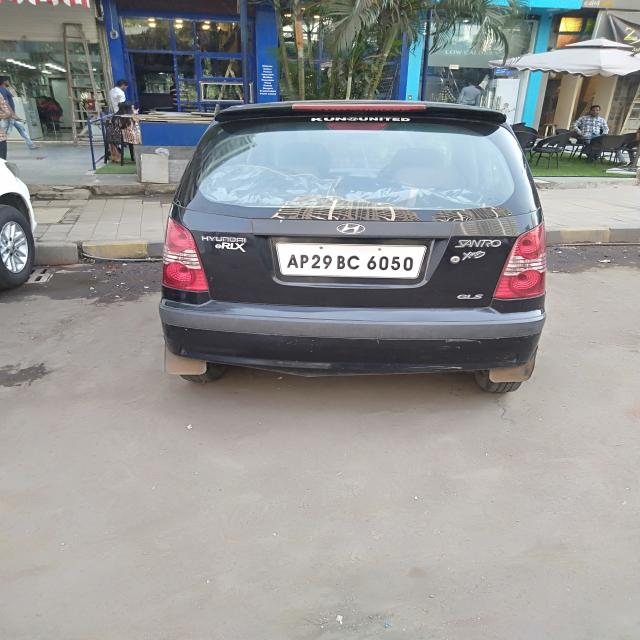Number-Plate: (286, 242, 422, 276)
